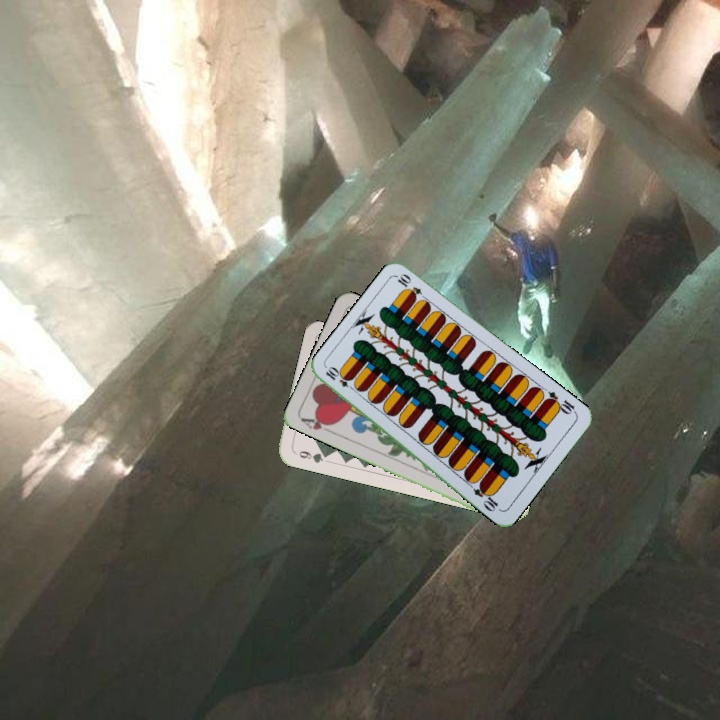E10: (322, 363, 359, 394), (541, 387, 579, 417)
G9: (290, 447, 332, 466)
HA: (297, 412, 336, 436)
